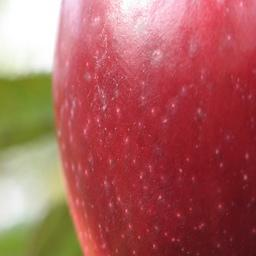apple: (50, 2, 256, 254)
